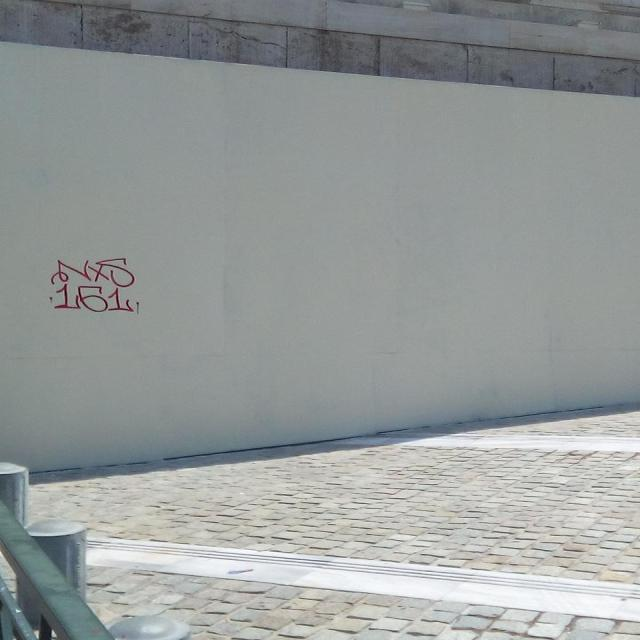nonspitting: (50, 256, 140, 314)
